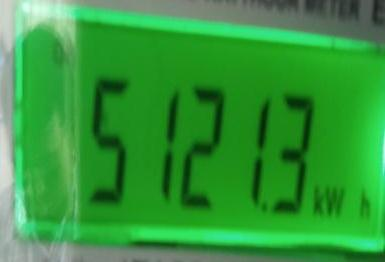.: (310, 182, 376, 224)
0: (260, 201, 270, 215)
2: (158, 76, 181, 206), (248, 86, 271, 211)
3: (181, 86, 228, 210)
4: (275, 87, 317, 214)
6: (88, 78, 133, 207)
